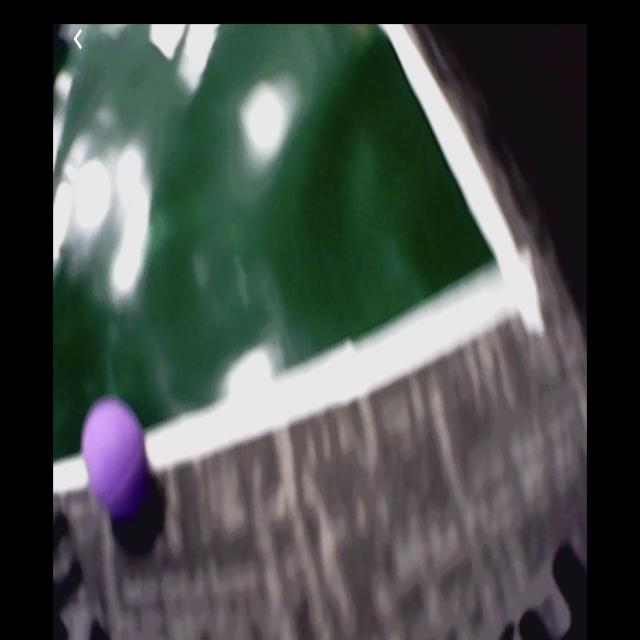ball: (83, 401, 144, 515)
